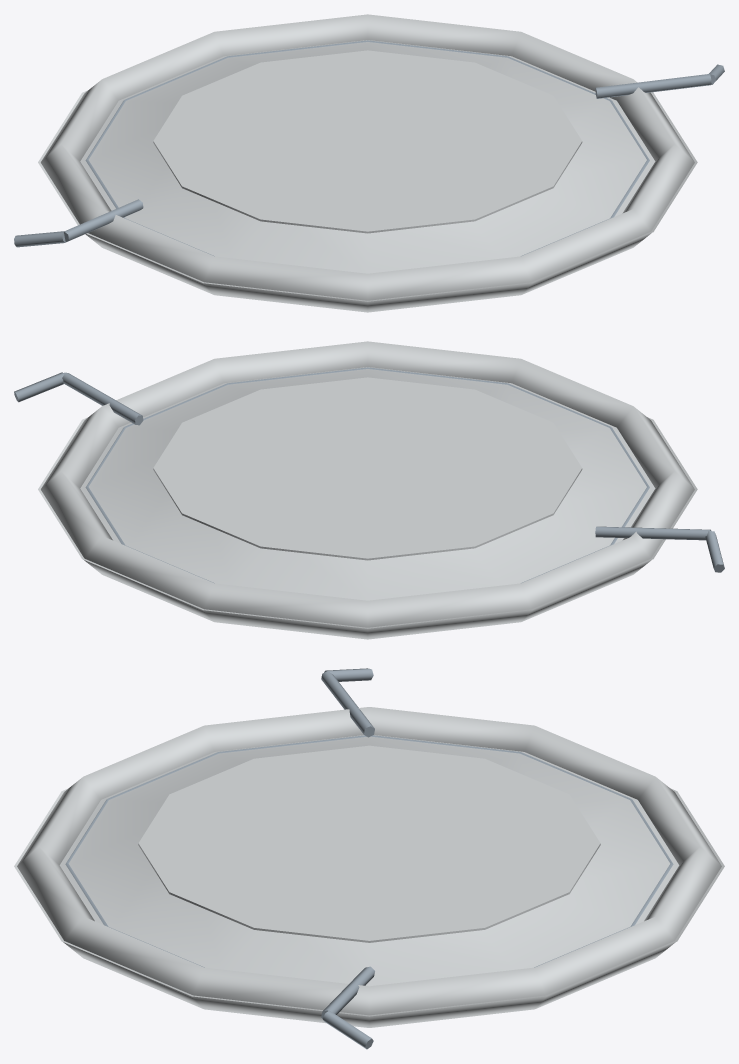
Rendered from source.glb.
3 renders of one model, top to bottom at view 1: azimuth 30°, elevation 25°; view 2: azimuth 150°, elevation 25°; view 3: azimuth 270°, elevation 25°, orthographic. The views are drawn at different scales.
Parts seen in each view (by area): view 1: 粉末涂层铝壳, 机加工金属; view 2: 粉末涂层铝壳, 机加工金属; view 3: 粉末涂层铝壳, 机加工金属.
Boxes of the visible parts, bbox=[...] form: 粉末涂层铝壳: bbox=[38, 14, 697, 312]; 机加工金属: bbox=[14, 40, 724, 256]; 粉末涂层铝壳: bbox=[38, 341, 697, 639]; 机加工金属: bbox=[14, 367, 724, 583]; 粉末涂层铝壳: bbox=[14, 707, 724, 1027]; 机加工金属: bbox=[65, 668, 673, 1049].
Size of the model in its own units: 0.2797 by 0.0167 by 0.225.
